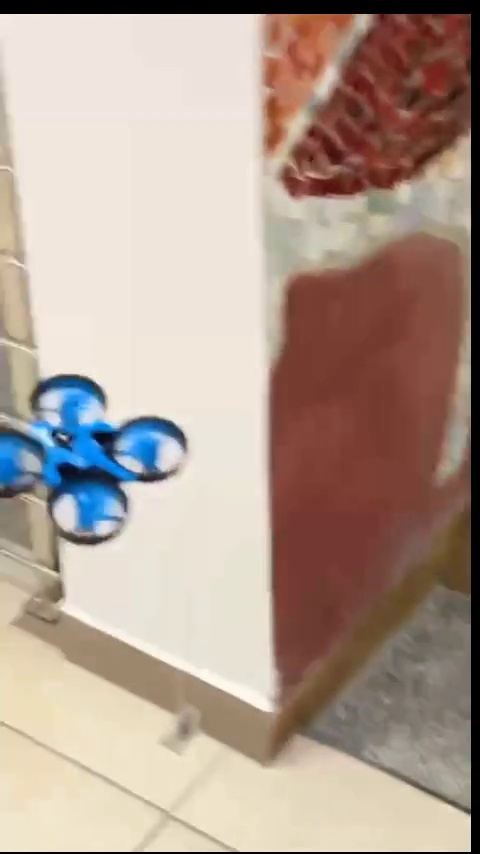drone: (0, 369, 186, 556)
